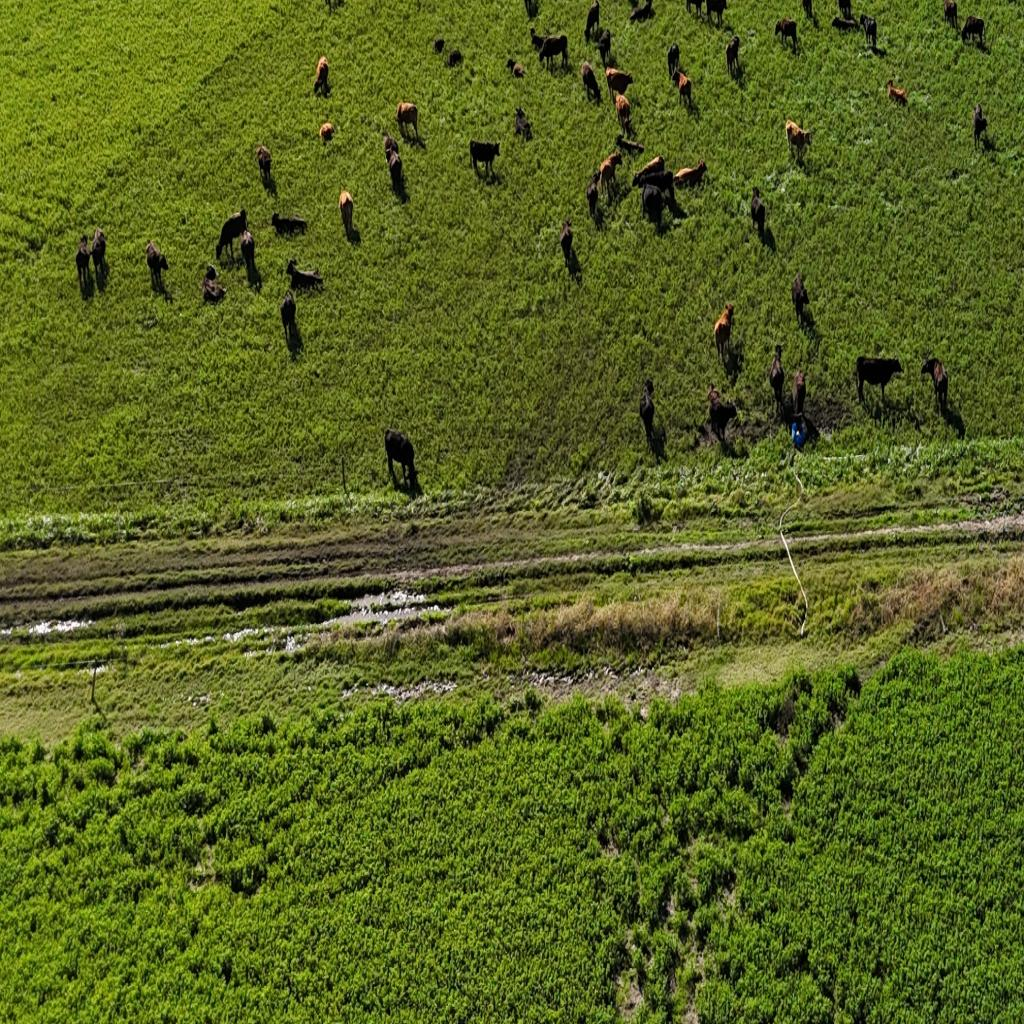cow: (855, 355, 903, 406), (383, 427, 421, 490), (706, 384, 738, 444), (215, 206, 248, 263), (921, 355, 949, 413), (530, 30, 568, 72), (286, 257, 324, 293), (712, 303, 734, 364), (635, 166, 674, 199), (938, 399, 967, 443), (470, 138, 499, 180), (598, 149, 622, 199), (785, 118, 812, 162), (641, 180, 665, 228), (768, 345, 784, 416), (790, 270, 810, 326), (397, 101, 423, 143), (672, 159, 706, 191), (146, 240, 168, 288), (639, 378, 656, 439), (722, 339, 745, 384), (643, 417, 667, 460), (270, 209, 306, 237), (90, 226, 109, 278), (203, 264, 228, 303), (562, 242, 582, 289), (605, 65, 631, 100), (75, 235, 91, 289), (386, 146, 404, 194), (774, 18, 798, 52), (756, 216, 776, 256), (664, 180, 685, 218), (962, 16, 986, 48), (972, 103, 988, 151), (614, 90, 631, 135), (582, 60, 600, 102), (750, 186, 765, 236), (792, 368, 806, 421), (280, 289, 296, 335), (560, 220, 574, 272), (586, 172, 600, 221), (513, 106, 532, 140), (314, 53, 330, 92), (339, 189, 354, 230), (382, 132, 400, 166), (887, 78, 908, 107), (585, 0, 600, 40), (261, 164, 278, 199), (726, 34, 740, 76), (860, 15, 877, 49), (256, 145, 272, 181), (678, 71, 692, 111), (706, 0, 726, 28), (617, 135, 645, 155), (629, 0, 653, 23), (596, 28, 611, 64), (831, 16, 861, 34), (667, 42, 680, 80), (943, 0, 958, 30), (686, 0, 706, 18), (836, 0, 853, 21), (800, 0, 815, 23), (319, 121, 335, 141), (324, 0, 346, 13), (511, 58, 526, 77), (447, 49, 462, 67), (523, 0, 537, 19), (580, 60, 592, 82), (204, 264, 218, 282), (433, 37, 445, 53)
